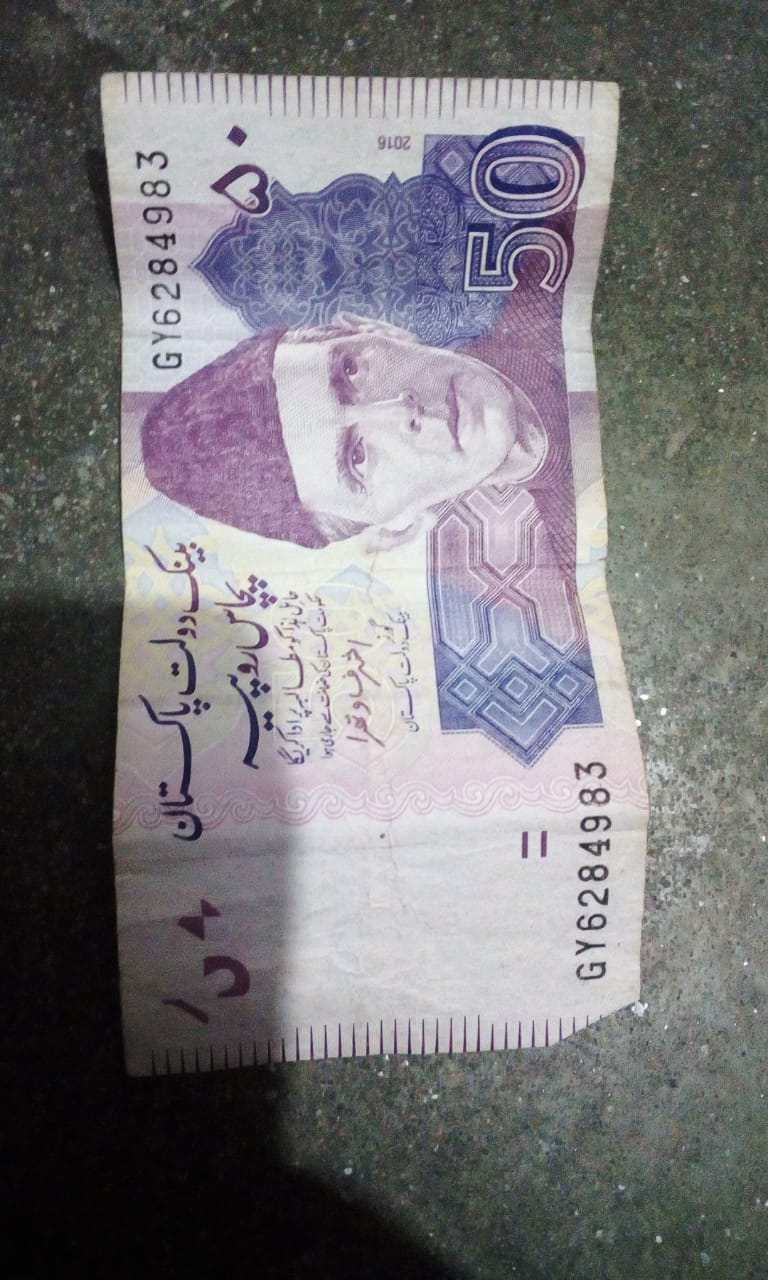50 rupee: (49, 52, 659, 1076)
